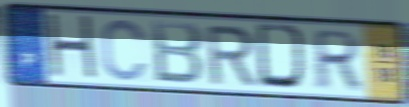B: (149, 18, 206, 87)
C: (99, 16, 151, 83)
D: (254, 21, 313, 94)
H: (43, 11, 101, 85)
R: (204, 24, 258, 87), (312, 28, 363, 91)
